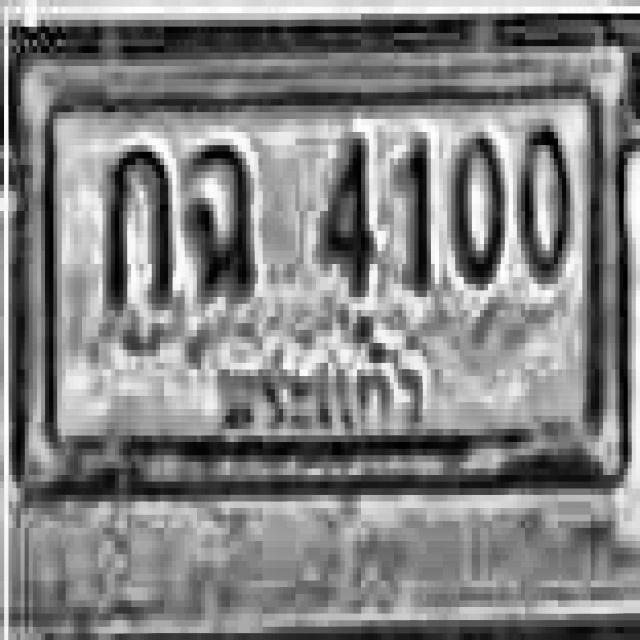license-plate: (19, 31, 638, 494)
